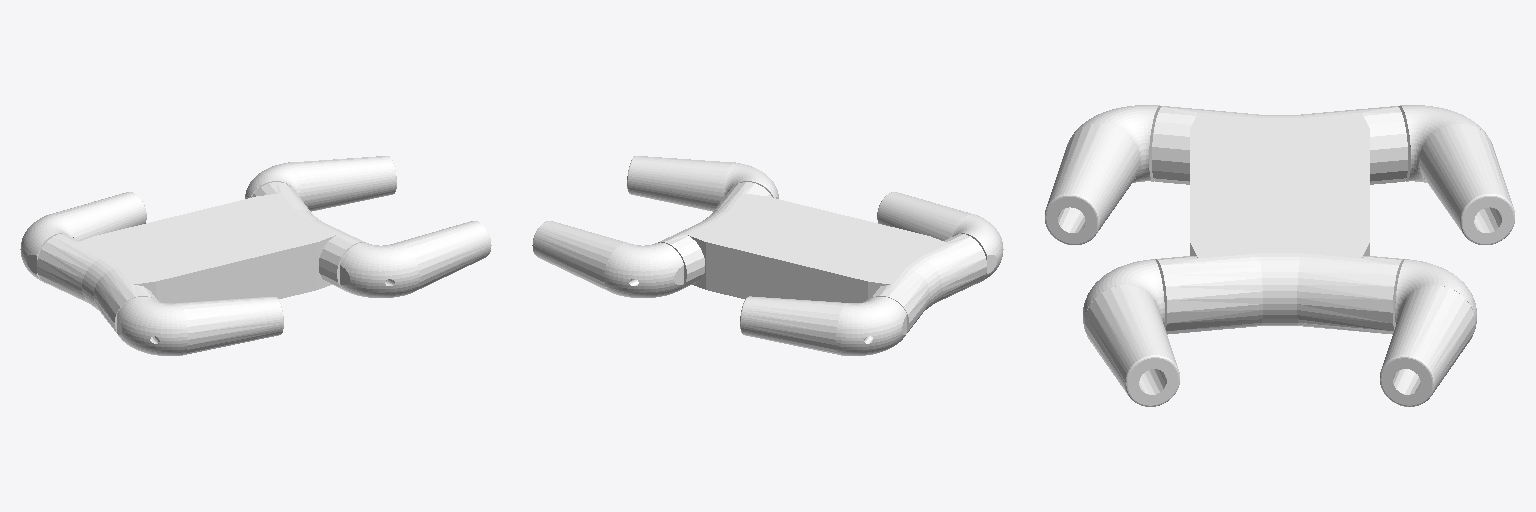
The robot description file, URDF, robot "12_degree":
<?xml version="1.0" encoding="utf-8"?>
<!-- This URDF was automatically created by SolidWorks to URDF Exporter! Originally created by [author] ([email redacted]) 
     Commit Version: 1.5.1-0-g916b5db  Build Version: 1.5.7152.31018
     For more information, please see http://wiki.ros.org/sw_urdf_exporter -->
<robot
  name="12_degree">
  <link
    name="base_link">
    <inertial>
      <origin
        xyz="6.9389E-18 4.3462E-08 6.9389E-18"
        rpy="0 0 0" />
      <mass
        value="2.803" />
      <inertia
        ixx="0.010105561"
        ixy="-2.3823E-18"
        ixz="-8.5668E-11"
        iyy="0.039493629"
        iyz="-3.2033E-18"
        izz="0.047235513" />
    </inertial>
    <visual>
      <origin
        xyz="0 0 0"
        rpy="0 0 0" />
      <geometry>
        <mesh
          filename="package://12_degree/meshes/base_link.STL" />
      </geometry>
      <material
        name="">
        <color
          rgba="1 1 1 1" />
      </material>
    </visual>
    <collision>
      <origin
        xyz="0 0 0"
        rpy="0 0 0" />
      <geometry>
        <mesh
          filename="package://12_degree/meshes/base_link.STL" />
      </geometry>
    </collision>
  </link>
  <link
    name="left_fromt_link">
    <inertial>
      <origin
        xyz="-2.3555E-08 0.064793 -0.023111"
        rpy="0 0 0" />
      <mass
        value="0.0866" />
      <inertia
        ixx="0.000256979"
        ixy="6.4868E-10"
        ixz="9.6204E-10"
        iyy="0.000049306"
        iyz="-2.19791E-05"
        izz="0.000254223" />
    </inertial>
    <visual>
      <origin
        xyz="0 0 0"
        rpy="0 0 0" />
      <geometry>
        <mesh
          filename="package://12_degree/meshes/left_fromt_link.STL" />
      </geometry>
      <material
        name="">
        <color
          rgba="1 1 1 1" />
      </material>
    </visual>
    <collision>
      <origin
        xyz="0 0 0"
        rpy="0 0 0" />
      <geometry>
        <mesh
          filename="package://12_degree/meshes/left_fromt_link.STL" />
      </geometry>
    </collision>
  </link>
  <joint
    name="left_front_leg"
    type="continuous">
    <origin
      xyz="0.15141 0.10075 0"
      rpy="1.5708 1.5708 0" />
    <parent
      link="base_link" />
    <child
      link="left_fromt_link" />
    <axis
      xyz="0 0.20791 -0.97815" />
    <limit
      effort="5"
      velocity="487" />
  </joint>
  <link
    name="right_front_link">
    <inertial>
      <origin
        xyz="2.3555E-08 0.064793 0.023111"
        rpy="0 0 0" />
      <mass
        value="0.0866" />
      <inertia
        ixx="0.000256979"
        ixy="-6.4868E-10"
        ixz="9.6204E-10"
        iyy="0.000049306"
        iyz="2.1979E-05"
        izz="0.000254223" />
    </inertial>
    <visual>
      <origin
        xyz="0 0 0"
        rpy="0 0 0" />
      <geometry>
        <mesh
          filename="package://12_degree/meshes/right_front_link.STL" />
      </geometry>
      <material
        name="">
        <color
          rgba="1 1 1 1" />
      </material>
    </visual>
    <collision>
      <origin
        xyz="0 0 0"
        rpy="0 0 0" />
      <geometry>
        <mesh
          filename="package://12_degree/meshes/right_front_link.STL" />
      </geometry>
    </collision>
  </link>
  <joint
    name="right_front_leg"
    type="continuous">
    <origin
      xyz="0.15141 -0.10075 0"
      rpy="1.5708 1.5708 0" />
    <parent
      link="base_link" />
    <child
      link="right_front_link" />
    <axis
      xyz="0 0.20791 0.97815" />
    <limit
      effort="5"
      velocity="487" />
  </joint>
  <link
    name="right_back_link">
    <inertial>
      <origin
        xyz="-1.8333E-09 0.058572 0.036077"
        rpy="0 0 0" />
      <mass
        value="0.0866" />
      <inertia
        ixx="0.000256979"
        ixy="-5.727E-10"
        ixz="2.5755E-10"
        iyy="0.000049225"
        iyz="-2.1595E-05"
        izz="0.000254305" />
    </inertial>
    <visual>
      <origin
        xyz="0 0 0"
        rpy="0 0 0" />
      <geometry>
        <mesh
          filename="package://12_degree/meshes/right_back_link.STL" />
      </geometry>
      <material
        name="">
        <color
          rgba="1 1 1 1" />
      </material>
    </visual>
    <collision>
      <origin
        xyz="0 0 0"
        rpy="0 0 0" />
      <geometry>
        <mesh
          filename="package://12_degree/meshes/right_back_link.STL" />
      </geometry>
    </collision>
  </link>
  <joint
    name="right_back_leg"
    type="continuous">
    <origin
      xyz="-0.15141 -0.10075 0"
      rpy="1.7802 1.5708 0" />
    <parent
      link="base_link" />
    <child
      link="right_back_link" />
    <axis
      xyz="0 0 1" />
    <limit
      effort="5"
      velocity="487" />
  </joint>
  <link
    name="left_back_link">
    <inertial>
      <origin
        xyz="1.8333E-09 0.049791 -0.047466"
        rpy="0 0 0" />
      <mass
        value="0.0866" />
      <inertia
        ixx="0.000256979"
        ixy="6.1373E-10"
        ixz="1.3286E-10"
        iyy="0.000066873"
        iyz="0.000061435"
        izz="0.000236656" />
    </inertial>
    <visual>
      <origin
        xyz="0 0 0"
        rpy="0 0 0" />
      <geometry>
        <mesh
          filename="package://12_degree/meshes/left_back_link.STL" />
      </geometry>
      <material
        name="">
        <color
          rgba="1 1 1 1" />
      </material>
    </visual>
    <collision>
      <origin
        xyz="0 0 0"
        rpy="0 0 0" />
      <geometry>
        <mesh
          filename="package://12_degree/meshes/left_back_link.STL" />
      </geometry>
    </collision>
  </link>
  <joint
    name="left_back_leg"
    type="continuous">
    <origin
      xyz="-0.15141 0.10075 0"
      rpy="1.5708 1.5708 0" />
    <parent
      link="base_link" />
    <child
      link="left_back_link" />
    <axis
      xyz="0 -0.20791 -0.97815" />
    <limit
      effort="5"
      velocity="487" />
  </joint>
</robot>

--- Render facts (derived) ---
Views: 3 orthographic renders of the robot side by side, from view 1: azimuth 30°, elevation 25°; view 2: azimuth 150°, elevation 25°; view 3: azimuth 270°, elevation 25°.
Robot: 12_degree — 5 links, 4 joints (4 continuous); root link base_link; default pose: every joint at zero.
Visible links, largest first — view 1: base_link, right_back_link, right_front_link, left_fromt_link, left_back_link; view 2: base_link, left_back_link, left_fromt_link, right_front_link, right_back_link; view 3: base_link, right_back_link, left_back_link, right_front_link, left_fromt_link.
Boxes of the visible links, box(x1,y1,x2,y2) form: base_link: box(37, 182, 365, 332); right_back_link: box(117, 296, 283, 355); right_front_link: box(340, 221, 491, 297); left_fromt_link: box(245, 156, 396, 211); left_back_link: box(20, 192, 146, 282); base_link: box(658, 182, 986, 332); left_back_link: box(740, 296, 906, 355); left_fromt_link: box(532, 221, 683, 297); right_front_link: box(627, 156, 778, 211); right_back_link: box(877, 192, 1003, 282); base_link: box(1152, 106, 1407, 334); right_back_link: box(1045, 105, 1161, 244); left_back_link: box(1398, 105, 1514, 244); right_front_link: box(1083, 259, 1179, 406); left_fromt_link: box(1380, 259, 1476, 406).
Bounding box of the posed robot: 0.5086 × 0.3938 × 0.064 m (x, y, z).
5 mesh visuals loaded from 5 distinct referenced files (5 binary STL).